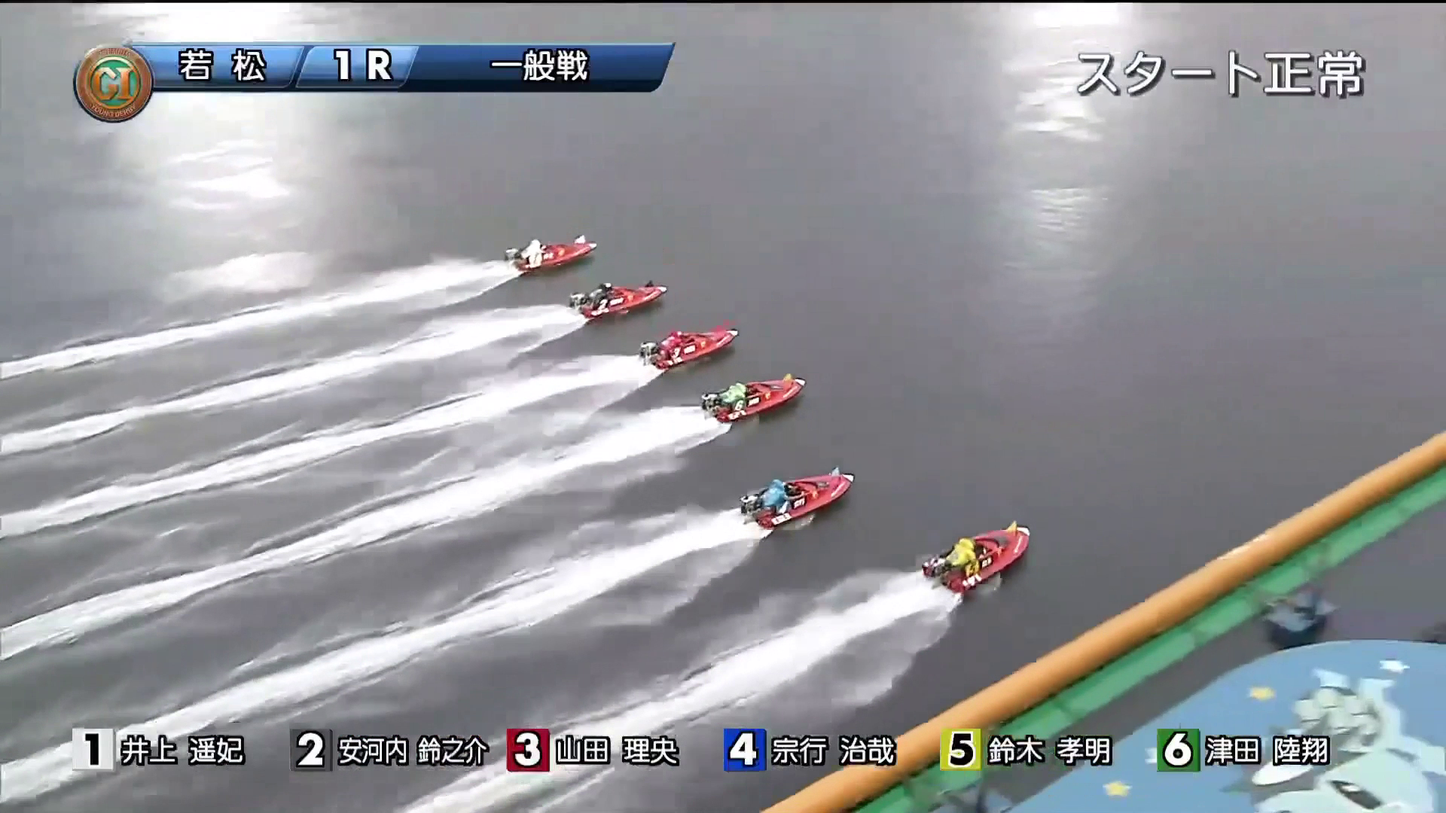１号艇: (505, 237, 581, 276)
２号艇: (564, 279, 655, 317)
３号艇: (630, 323, 725, 365)
４号艇: (695, 385, 800, 428)
５号艇: (740, 472, 860, 527)
６号艇: (911, 531, 1017, 588)
